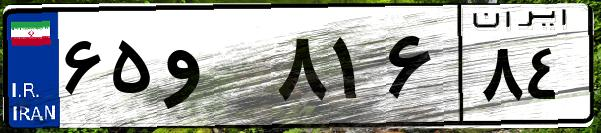1: (330, 28, 385, 110)
4: (525, 38, 570, 115)
5: (110, 28, 158, 98)
6: (385, 28, 445, 110), (57, 26, 110, 100)
8: (270, 28, 330, 110), (475, 38, 525, 113)
و: (158, 20, 270, 120)
